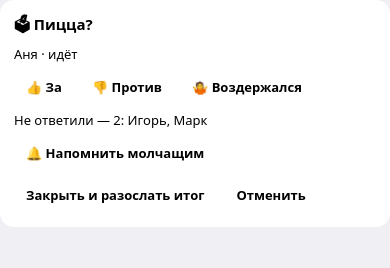
PollCard — «🔔 Напомнить молчащим» › новое действие после напоминания убирает старую строку «Напомнил: …»
Click the button "🔔 Напомнить молчащим" at (115, 153), box left=14, top=135, right=216, bottom=171
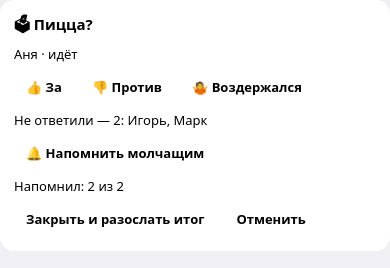
Check: the text "Напомнил: 2 из 2" is shown, box left=14, top=177, right=124, bottom=195
Click the button "👍 За" at (44, 87), box left=14, top=69, right=74, bottom=105
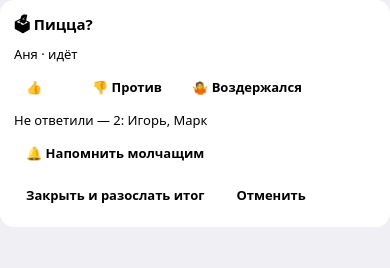
Check: the text "Напомнил:" is gone
